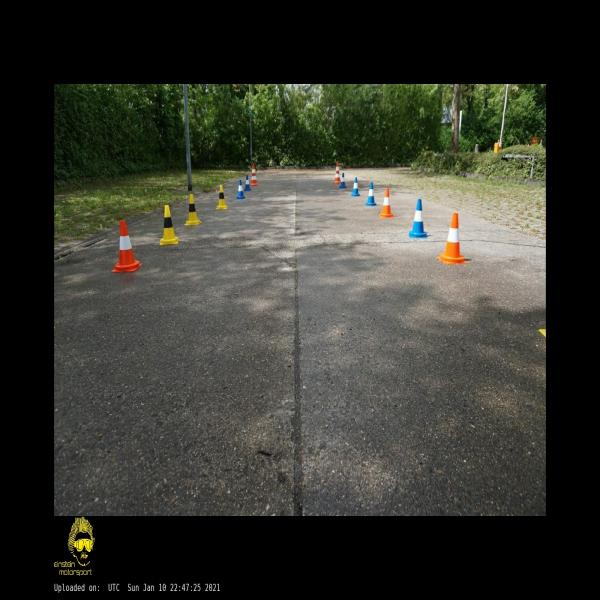blue_cone: (408, 199, 428, 238), (364, 182, 377, 206), (236, 180, 246, 199), (351, 177, 360, 196), (339, 173, 347, 188), (244, 175, 251, 191)
large_orange_cone: (332, 160, 341, 184), (250, 164, 258, 186)
orange_cone: (111, 220, 142, 272), (438, 213, 468, 263), (379, 188, 393, 218)
yellow_cone: (160, 205, 179, 245), (184, 194, 202, 225), (215, 185, 228, 209)
